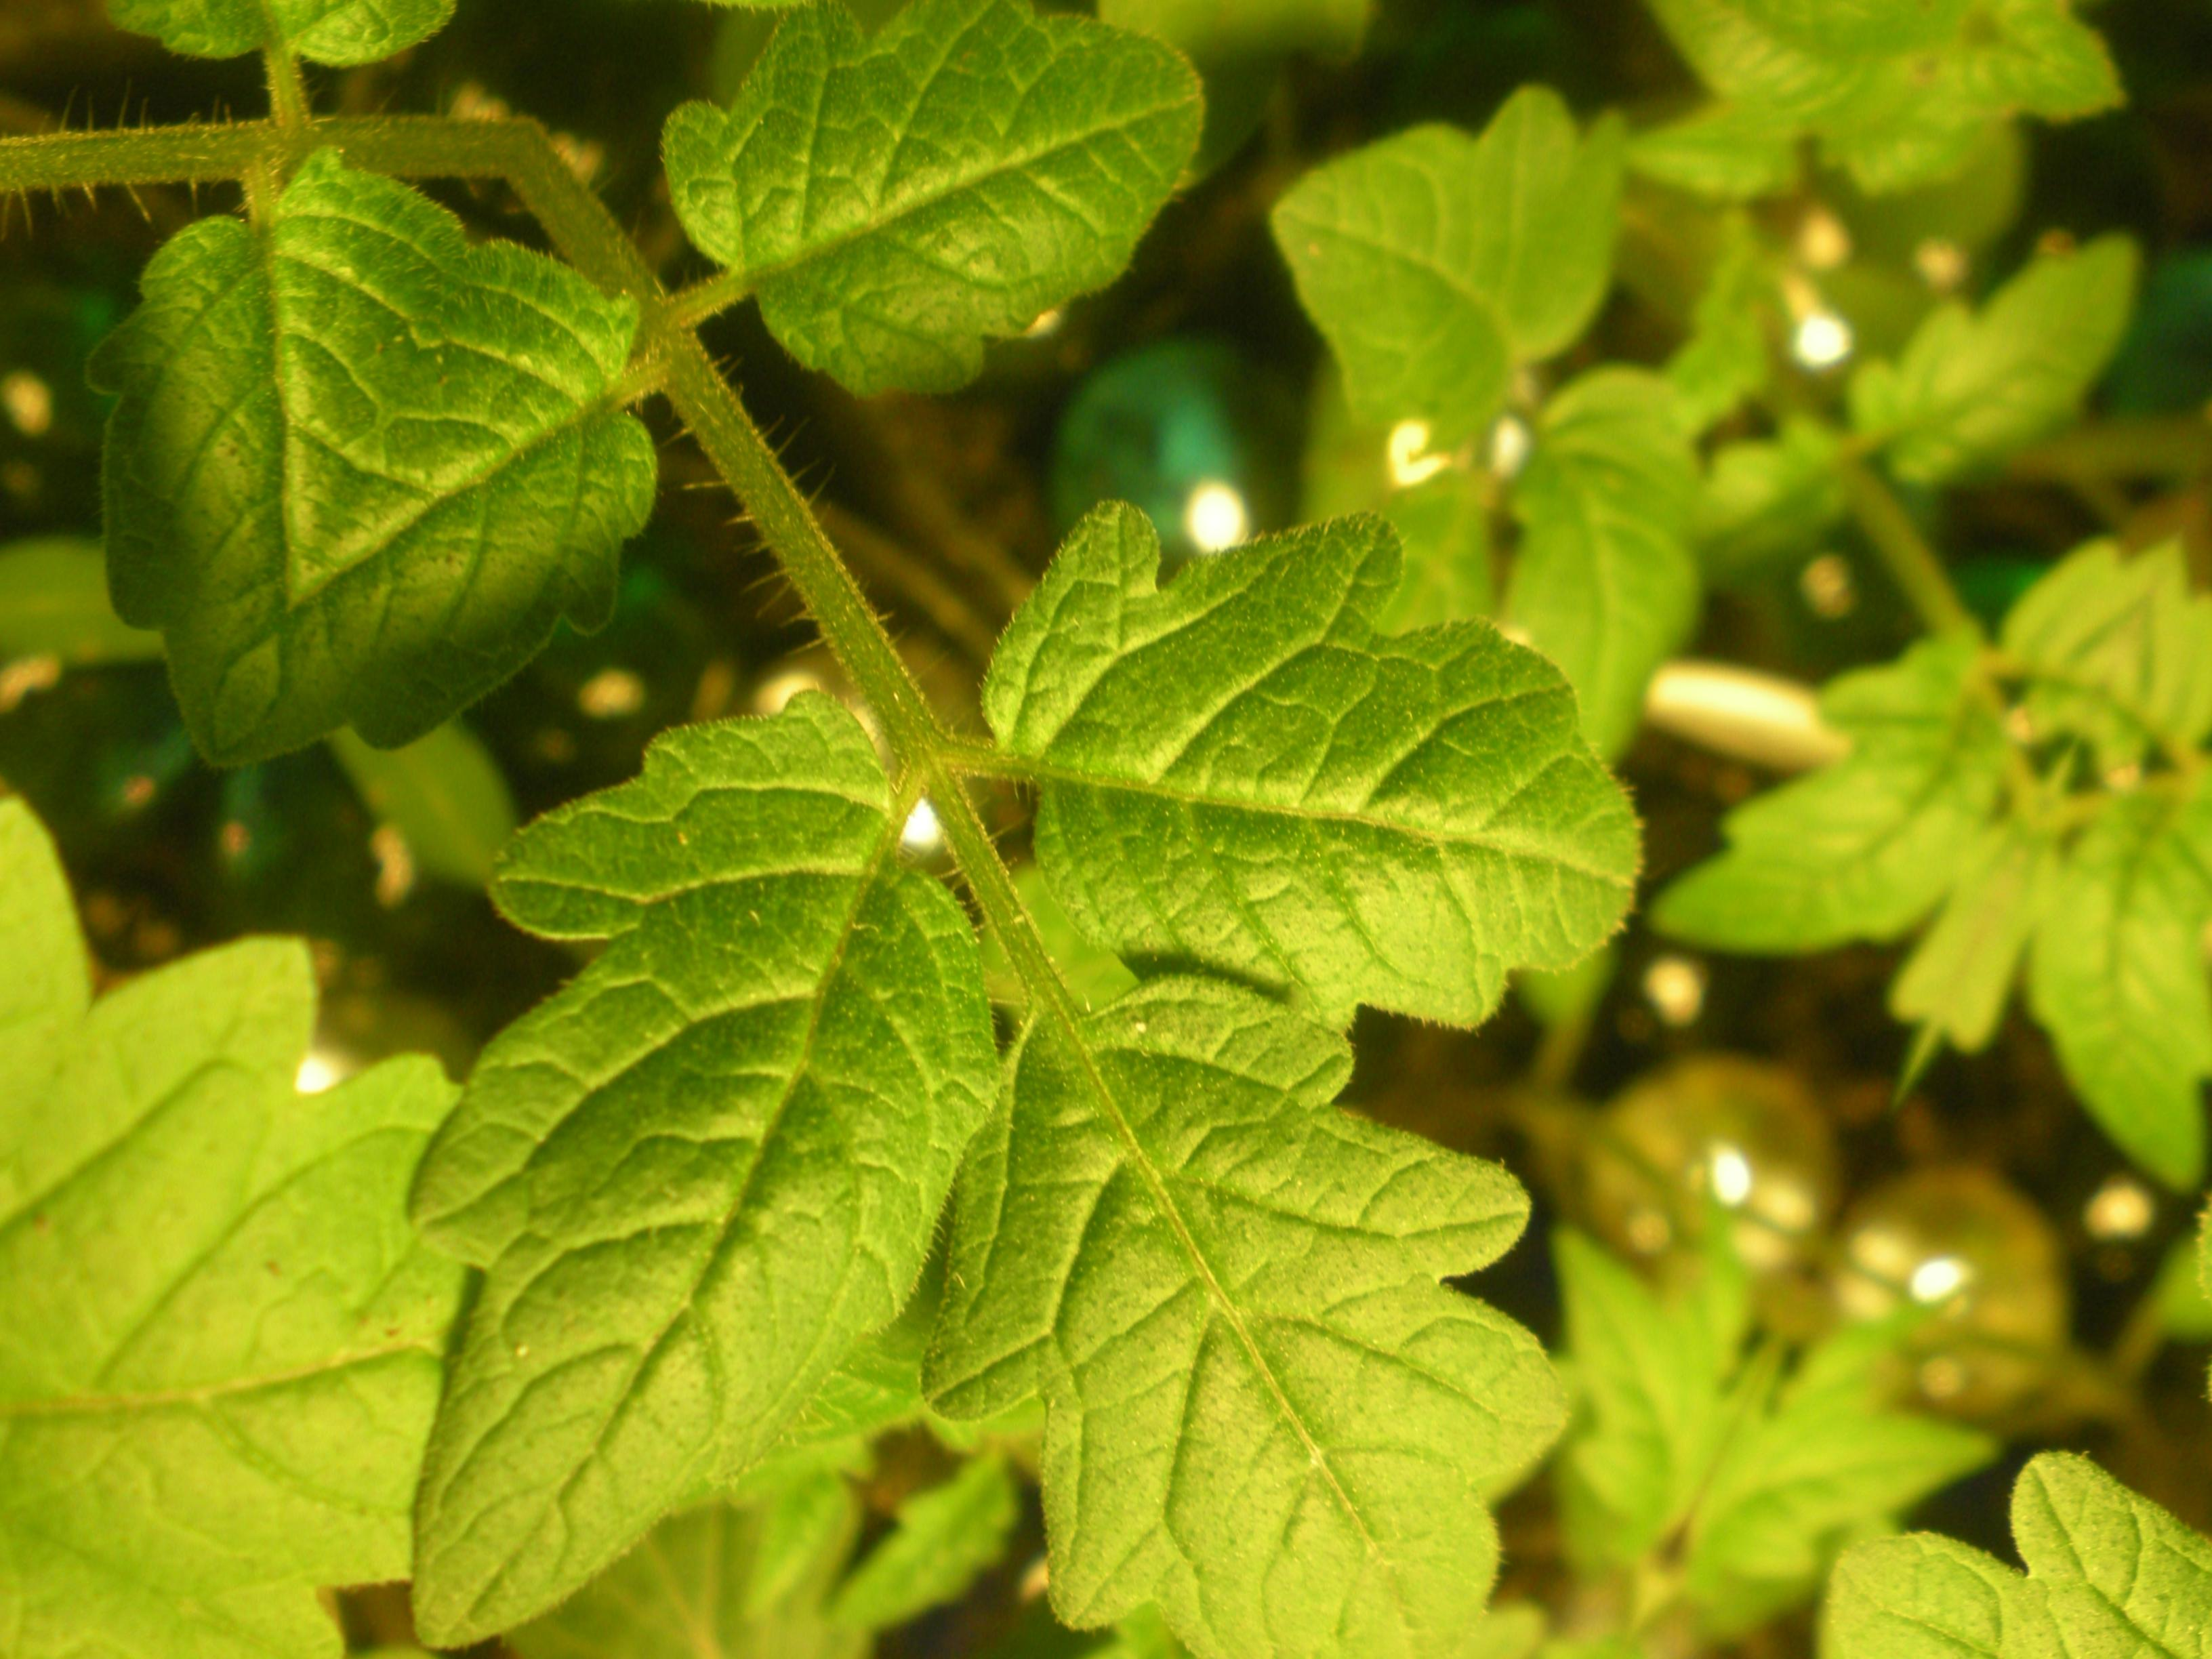Tomato leaf: (176, 586, 1129, 1659), (819, 357, 1757, 1188), (768, 904, 1695, 1659), (200, 211, 768, 927), (610, 0, 1294, 554), (1176, 0, 1689, 538), (1632, 549, 2090, 1079), (1400, 329, 1824, 803)
